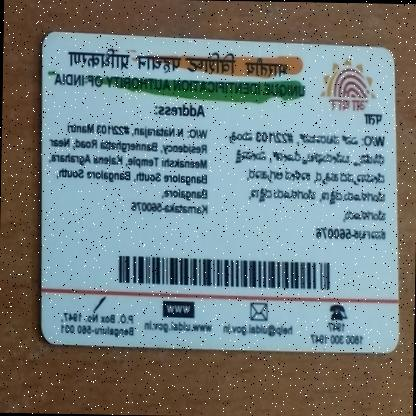aadhaar_card: (36, 34, 408, 357)
